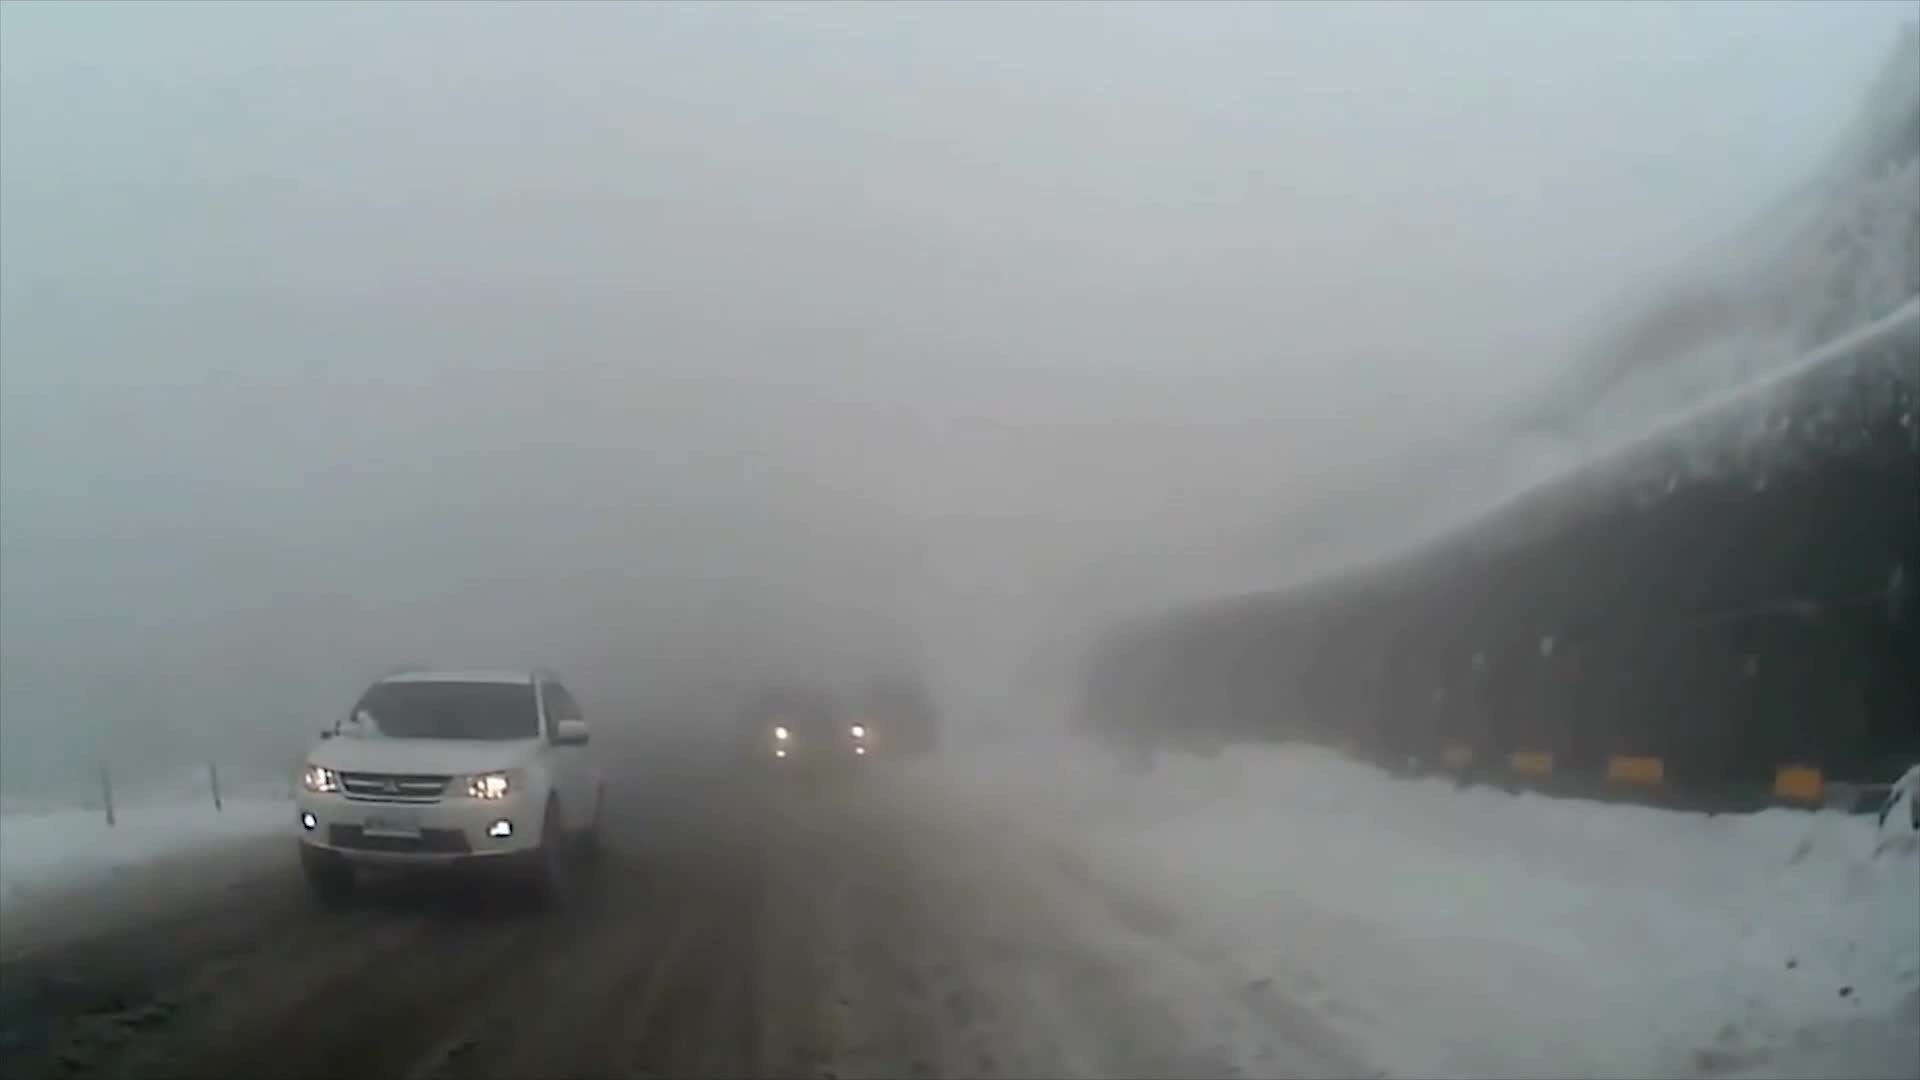vehicle: (290, 658, 611, 909), (727, 692, 870, 795)
